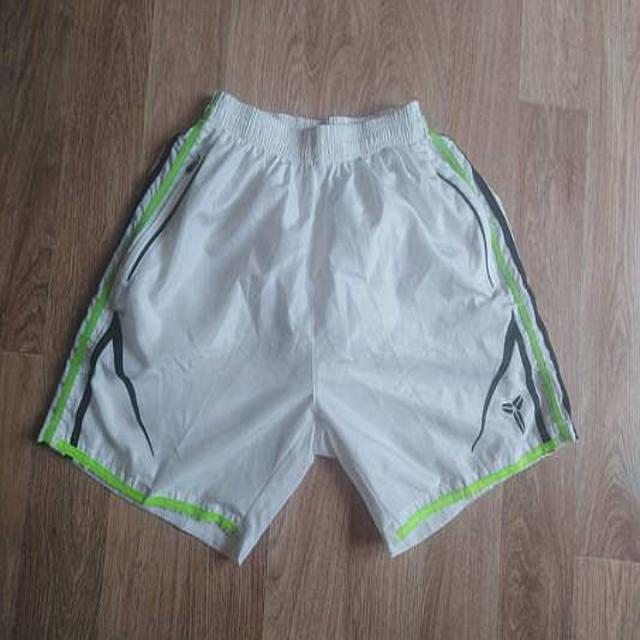SHORT: (27, 81, 594, 566)
